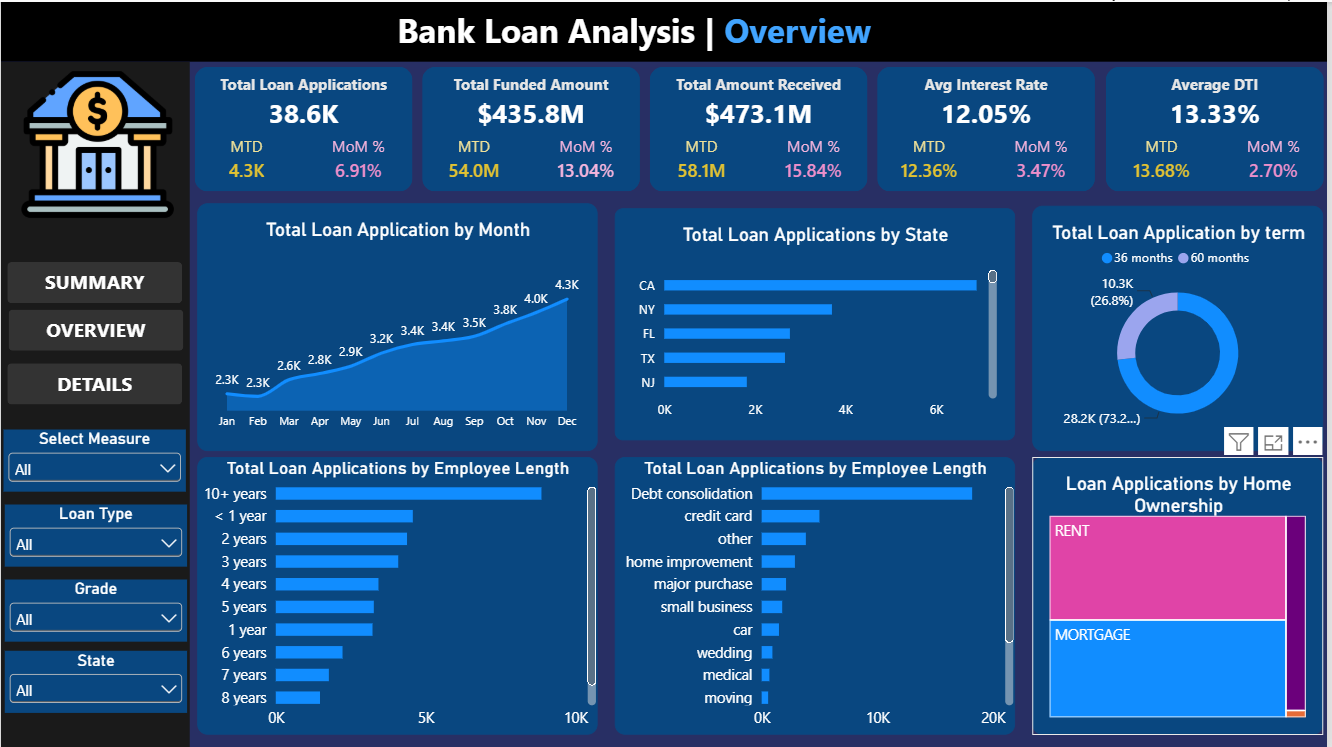

Layout of this report page (visuals, bound fields, positions):
{"tool":"powerbi","page":{"name":"Overview","canvas":[1280,720],"ordinal":1},"visuals":[{"type":"shape","box":[0,0,1280.3,57.6],"z":0},{"type":"textbox","box":[382.4,4.8,639.4,48.3],"z":1000},{"type":"shape","box":[0,57.9,182.2,662.3],"z":2000},{"type":"cardVisual","title":"Total Loan Applications","fields":{"Data":["Date Table.Total Loan Application"]},"box":[187,63,210,120],"z":3000},{"type":"cardVisual","title":"Total Loan Applications","fields":{"Data":["Date Table.Total Funded Amount"]},"box":[407,63,210,120],"z":4000},{"type":"cardVisual","title":"Total Loan Applications","fields":{"Data":["Date Table.Average DTI"]},"box":[1067,63,210,120],"z":5000},{"type":"cardVisual","title":"Total Loan Applications","fields":{"Data":["Date Table.Avg Interest Rate"]},"box":[846,63,210,120],"z":6000},{"type":"cardVisual","title":"Total Loan Applications","fields":{"Data":["Date Table.Total Amount Received"]},"box":[626,63,210,120],"z":7000},{"type":"cardVisual","fields":{"Data":["Date Table.MTD Loan Applications","Date Table.Applications MoM %"]},"box":[187,123.1,209.9,57.9],"z":8000},{"type":"cardVisual","fields":{"Data":["Date Table.MTD Funded Amount","Date Table.Funded Amount MoM %"]},"box":[406.6,123.1,209.9,57.9],"z":9000},{"type":"cardVisual","fields":{"Data":["Date Table.MTD Amount Received","Date Table.Amount Received MoM %"]},"box":[626.1,123.1,209.9,57.9],"z":10000},{"type":"cardVisual","fields":{"Data":["Date Table.MTD Average Interest Rate","Date Table.Interest Rate MoM %"]},"box":[845.7,123.1,209.9,57.9],"z":11000},{"type":"cardVisual","fields":{"Data":["Date Table.MTD Average DTI","Date Table.DTI MoM %"]},"box":[1070.1,123.1,209.9,57.9],"z":12000},{"type":"actionButton","title":"SUMMARY","box":[6.3,250.7,168.9,39.8],"z":13000},{"type":"slicer","title":"Loan Type","fields":{"Values":["Good Bad Filter.Loan Type"]},"box":[3.6,484.5,176.1,60.3],"z":14000},{"type":"slicer","title":"Grade","fields":{"Values":["public financial_loan.grade"]},"box":[3.6,557.4,176.1,60.3],"z":15000},{"type":"slicer","title":"State","fields":{"Values":["public financial_loan.address_state"]},"box":[3.6,626.1,176.1,60],"z":16000},{"type":"image","box":[10.9,63.9,164.1,147.2],"z":17000},{"type":"actionButton","title":"SUMMARY","box":[7.2,296.8,168.9,39.8],"z":18000},{"type":"actionButton","title":"SUMMARY","box":[6,348.7,168.9,39.8],"z":19000},{"type":"lineChart","title":"Total Loan Application by Month","fields":{"Category":["public financial_loan.Month Short"],"Y":["Date Table.Total Loan Application"]},"box":[189.4,194.2,386.1,239],"z":20000},{"type":"barChart","title":"Total Loan Applications by State","fields":{"Category":["public financial_loan.address_state"],"Y":["Date Table.Total Loan Application"]},"box":[592.4,199.1,386.1,224.4],"z":20001},{"type":"donutChart","fields":{"Category":["public financial_loan.term"],"Y":["Date Table.Total Loan Application"]},"box":[995.3,196.6,281.1,237],"z":20002},{"type":"clusteredBarChart","title":"Total Loan Applications by Employee Length","fields":{"Category":["public financial_loan.emp_length"],"Y":["Date Table.Total Loan Application"]},"box":[189.4,439.1,386.1,267.8],"z":20003},{"type":"clusteredBarChart","title":"Total Loan Applications by Employee Length","fields":{"Category":["public financial_loan.purpose"],"Y":["Date Table.Total Loan Application"]},"box":[592.4,439.1,386.1,267.8],"z":20004},{"type":"treemap","title":"Loan Applications by Home Ownership","fields":{"Group":["public financial_loan.home_ownership"],"Values":["Date Table.Total Loan Application"]},"box":[995,439,281,268],"z":20005},{"type":"slicer","title":"Select Measure","fields":{"Values":["Parameter.Parameter"]},"box":[3,413,176,60],"z":20006}]}

Visuals, with their boxes in screenshot pixels (x1, y1, x2, y2), scaled from the page's 1280x720 canvas onto the 1332x747 screenshot:
shape: crop(0, 0, 1331, 60)
textbox: crop(398, 5, 1063, 55)
shape: crop(0, 60, 190, 746)
"Total Loan Applications" cardVisual: crop(195, 65, 413, 190)
"Total Loan Applications" cardVisual: crop(424, 65, 642, 190)
"Total Loan Applications" cardVisual: crop(1110, 65, 1329, 190)
"Total Loan Applications" cardVisual: crop(880, 65, 1099, 190)
"Total Loan Applications" cardVisual: crop(651, 65, 870, 190)
cardVisual - Date Table.MTD Loan Applications x Date Table.Applications MoM %: crop(195, 128, 413, 188)
cardVisual - Date Table.MTD Funded Amount x Date Table.Funded Amount MoM %: crop(423, 128, 642, 188)
cardVisual - Date Table.MTD Amount Received x Date Table.Amount Received MoM %: crop(652, 128, 870, 188)
cardVisual - Date Table.MTD Average Interest Rate x Date Table.Interest Rate MoM %: crop(880, 128, 1098, 188)
cardVisual - Date Table.MTD Average DTI x Date Table.DTI MoM %: crop(1114, 128, 1331, 188)
"SUMMARY" actionButton: crop(7, 260, 182, 301)
"Loan Type" slicer: crop(4, 503, 187, 565)
"Grade" slicer: crop(4, 578, 187, 641)
"State" slicer: crop(4, 650, 187, 712)
image: crop(11, 66, 182, 219)
"SUMMARY" actionButton: crop(7, 308, 183, 349)
"SUMMARY" actionButton: crop(6, 362, 182, 403)
"Total Loan Application by Month" lineChart: crop(197, 201, 599, 449)
"Total Loan Applications by State" barChart: crop(616, 207, 1018, 439)
donutChart - public financial_loan.term x Date Table.Total Loan Application: crop(1036, 204, 1328, 450)
"Total Loan Applications by Employee Length" clusteredBarChart: crop(197, 456, 599, 733)
"Total Loan Applications by Employee Length" clusteredBarChart: crop(616, 456, 1018, 733)
"Loan Applications by Home Ownership" treemap: crop(1035, 455, 1328, 734)
"Select Measure" slicer: crop(3, 428, 186, 491)
